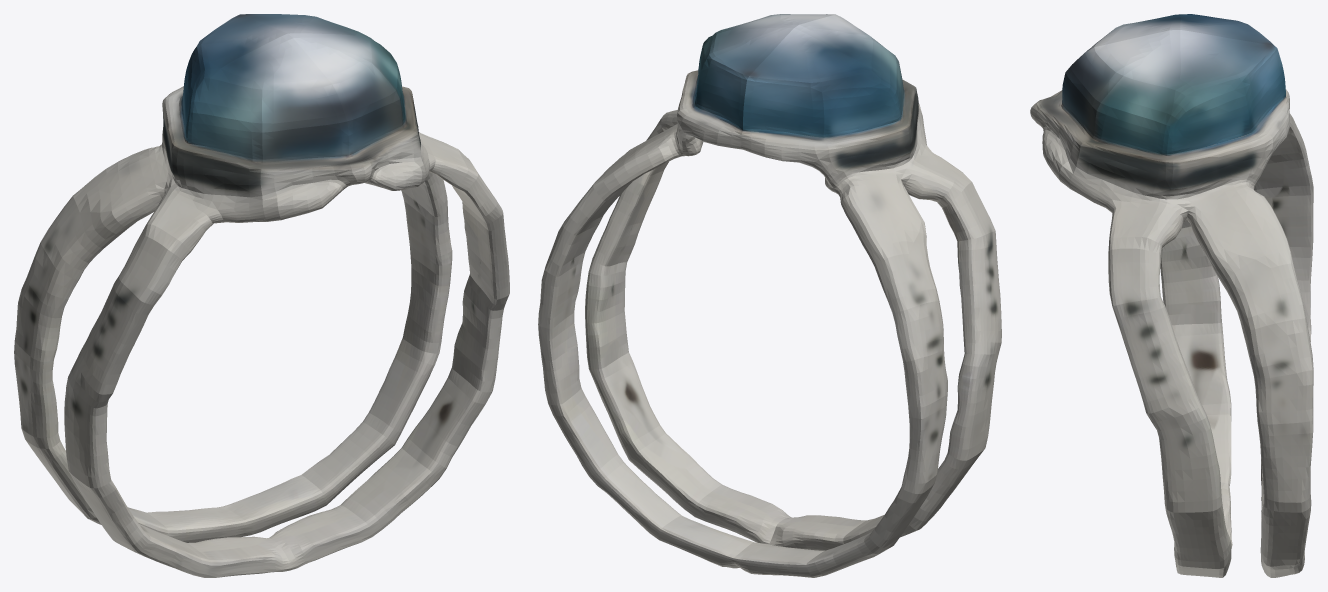
The model's file is ring_scaled.glb.
3 views of the same model, side by side, from view 1: azimuth 30°, elevation 25°; view 2: azimuth 150°, elevation 25°; view 3: azimuth 270°, elevation 25° (orthographic). The views are drawn at different scales.
Visible parts, largest first — view 1: model; view 2: model; view 3: model.
Boxes of the visible parts, x1,y1,x2,y2 form: model: (14, 14, 509, 577); model: (538, 14, 1001, 577); model: (1030, 14, 1313, 577).
Bounding box in the file's own units: 0.2496 × 0.3043 × 0.1506.
1 material, 1 textured.
